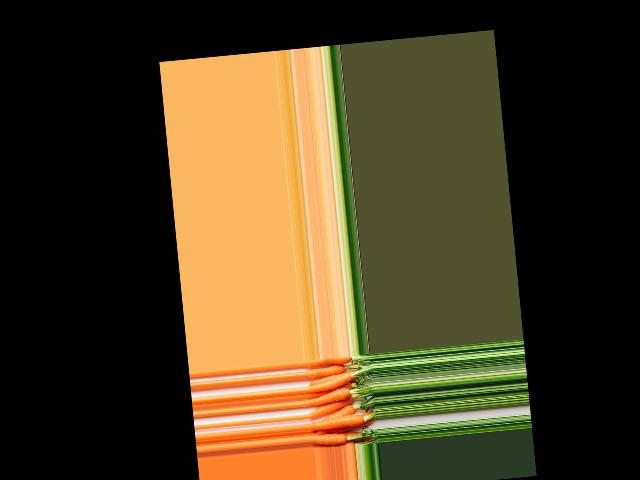carrot: (309, 431, 354, 449)
